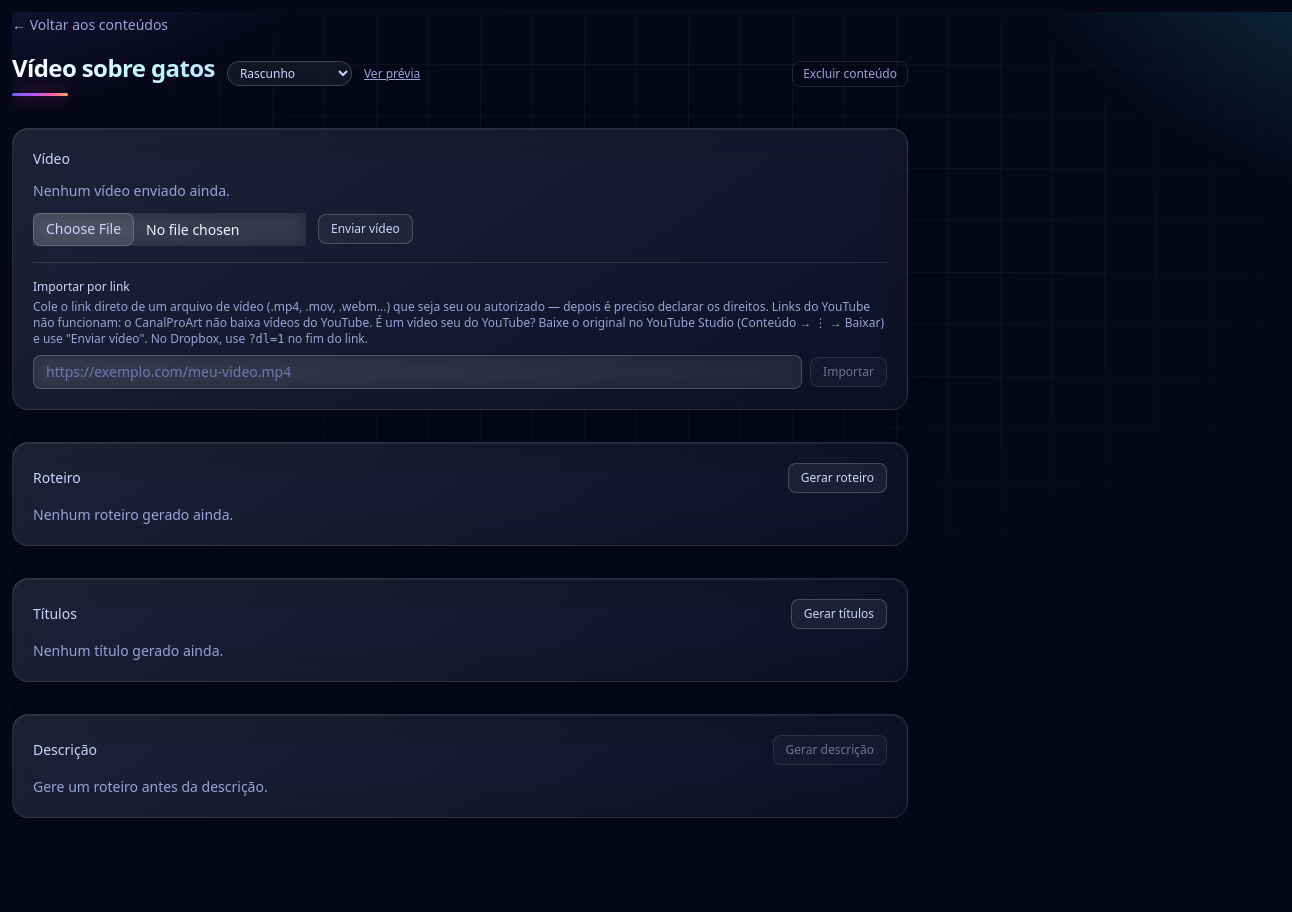
Scenario: ContentProjectDetailPage › importar por link › mantém o botão desabilitado enquanto não há link
This screenshot has width=1292, height=912.
Expected: the button "Importar" is disabled, [810,357,887,387]
Step 1. Type "https://exemplo.com/a.mp4" into the field named "Link do vídeo" → (418, 372), box [33,355,802,389]
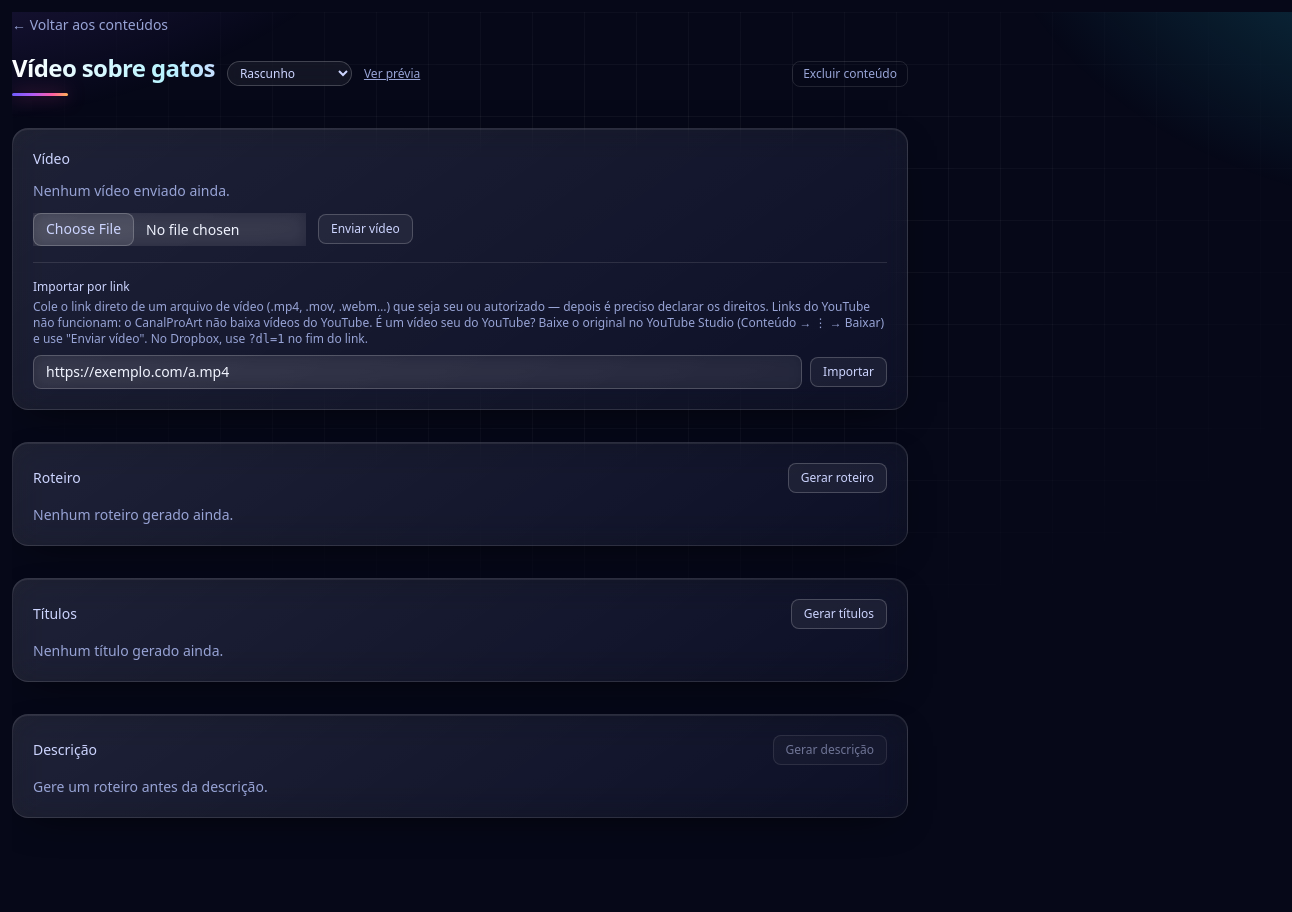
Result: the button "Importar" is enabled at [810,357,887,387]
